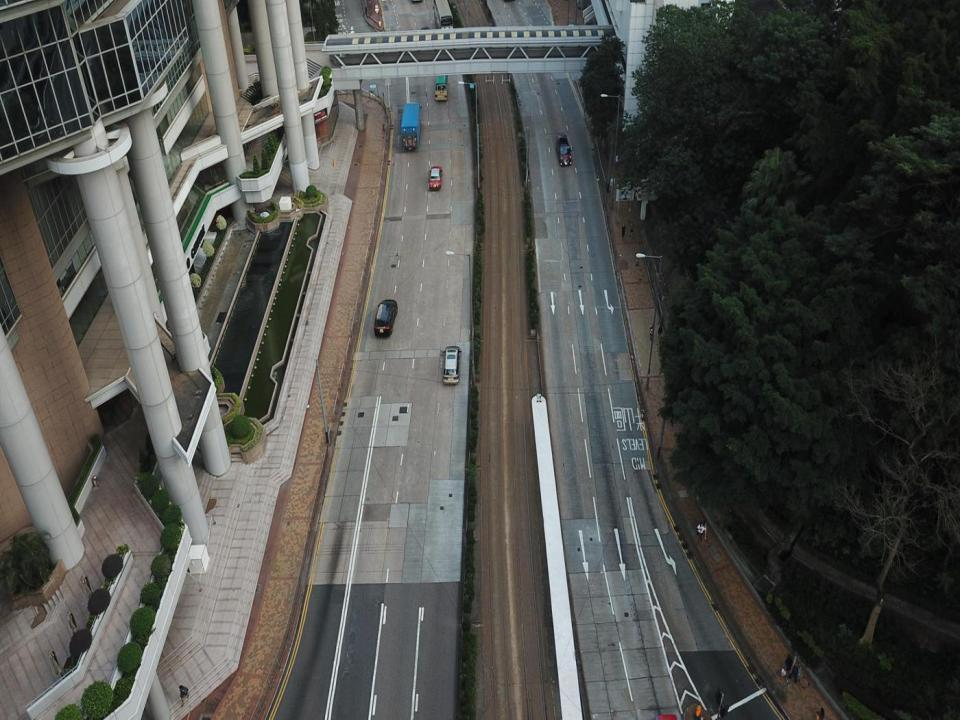bus: (432, 0, 453, 34), (435, 56, 449, 102)
car: (373, 298, 398, 337), (440, 344, 462, 384), (428, 164, 443, 191)
truck: (399, 101, 423, 150)
van: (556, 132, 573, 167)
